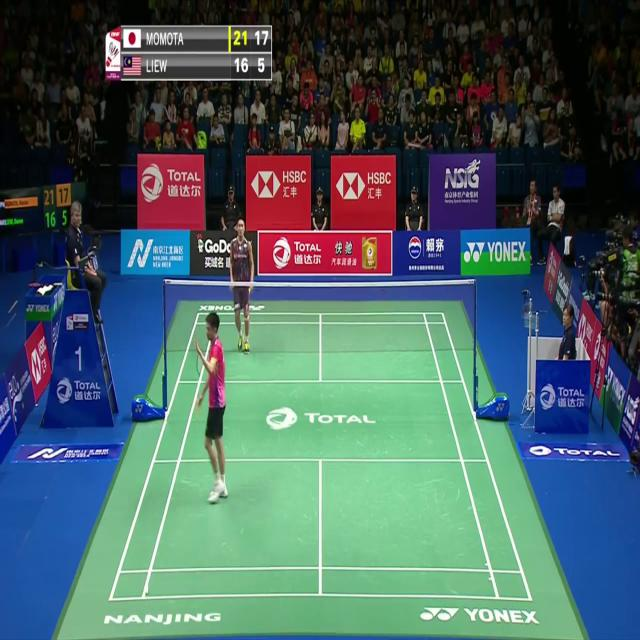Shuttlecock: (144, 584, 150, 595)
